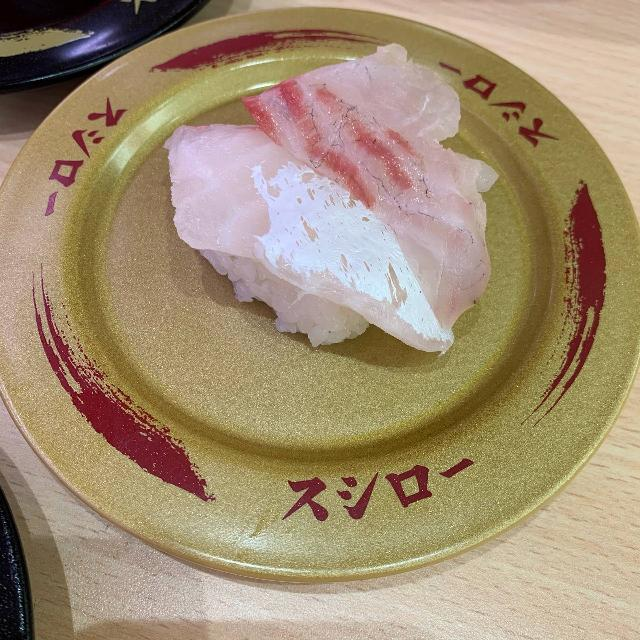janback: (1, 5, 165, 66), (2, 478, 44, 640)
jangold: (58, 29, 546, 511)
